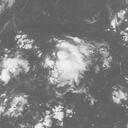cyclone: (42, 34, 111, 95)
